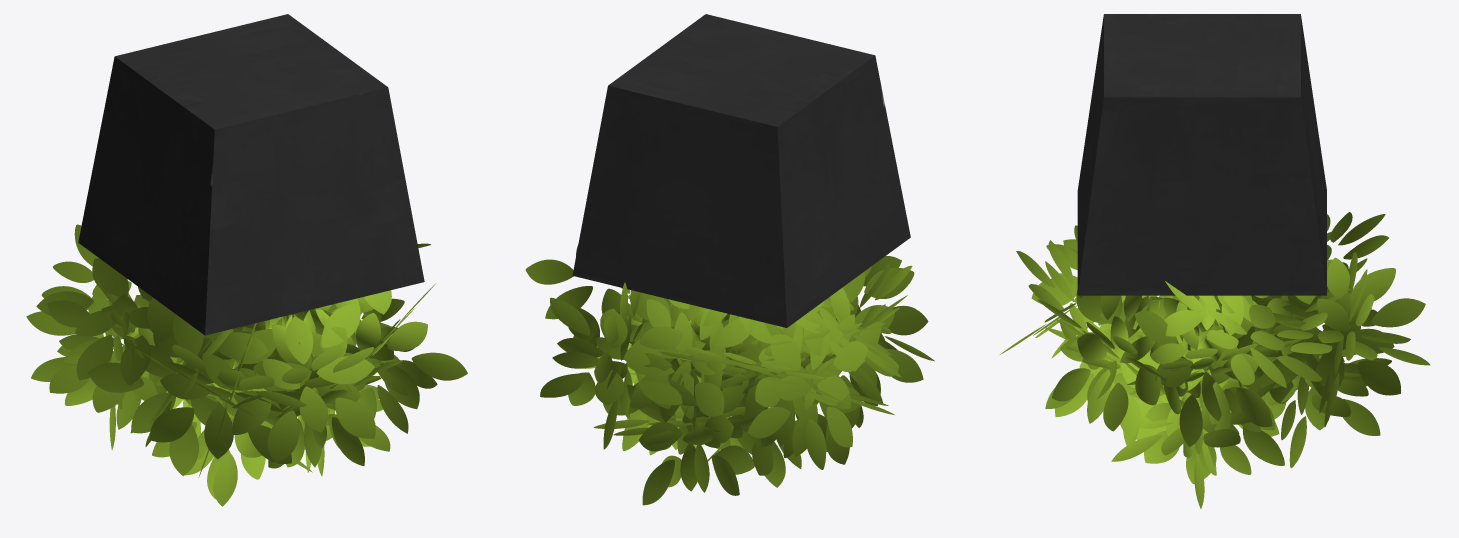
The model's file is anime-flowerpot-03.glb.
3 renders of one model, left to right at view 1: azimuth 30°, elevation 25°; view 2: azimuth 150°, elevation 25°; view 3: azimuth 270°, elevation 25°, orthographic. The views are drawn at different scales.
Visible parts, largest first — view 1: anime-flowerpot-03; view 2: anime-flowerpot-03; view 3: anime-flowerpot-03.
Boxes of the visible parts, left/top/right/bottom form: anime-flowerpot-03: left=26, top=14, right=467, bottom=506; anime-flowerpot-03: left=525, top=14, right=934, bottom=505; anime-flowerpot-03: left=1000, top=14, right=1430, bottom=508.
Size of the model in its own units: 0.3322 by 0.345 by 0.3279.
2 materials, 2 textured.
